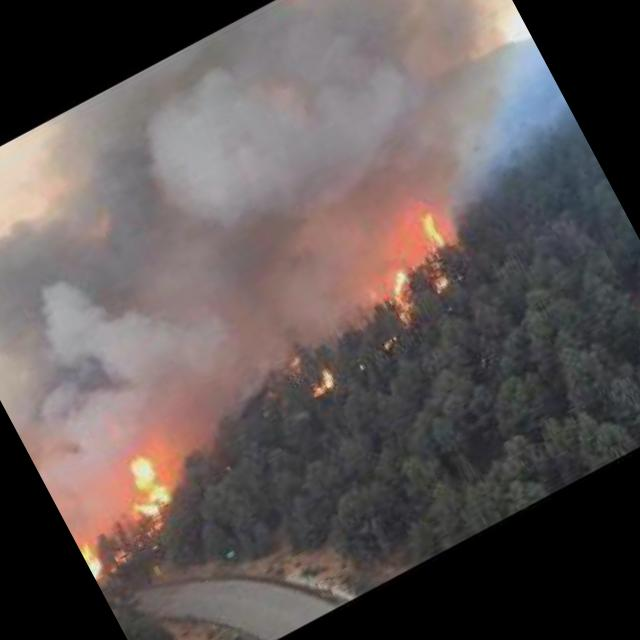fire: (105, 446, 187, 532), (398, 200, 468, 288), (74, 526, 122, 586), (383, 268, 426, 319), (304, 367, 342, 400)
smoke: (0, 0, 614, 492)
